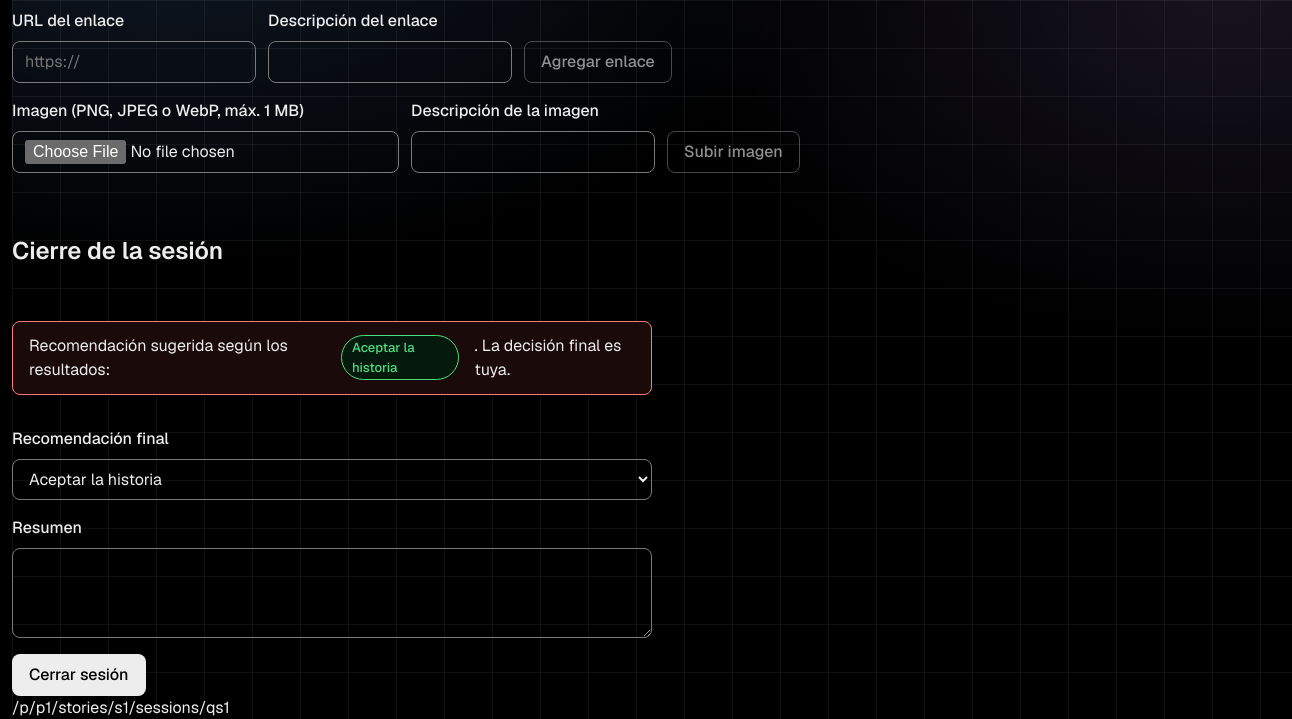
Test: SessionDetailPage › si el servidor rechaza el cierre muestra el motivo junto al formulario
This screenshot has width=1292, height=719.
(page scrolled)
Click the button "Cerrar sesión" at {"x": 79, "y": 675}, box x1=12 y1=654 x2=146 y2=696
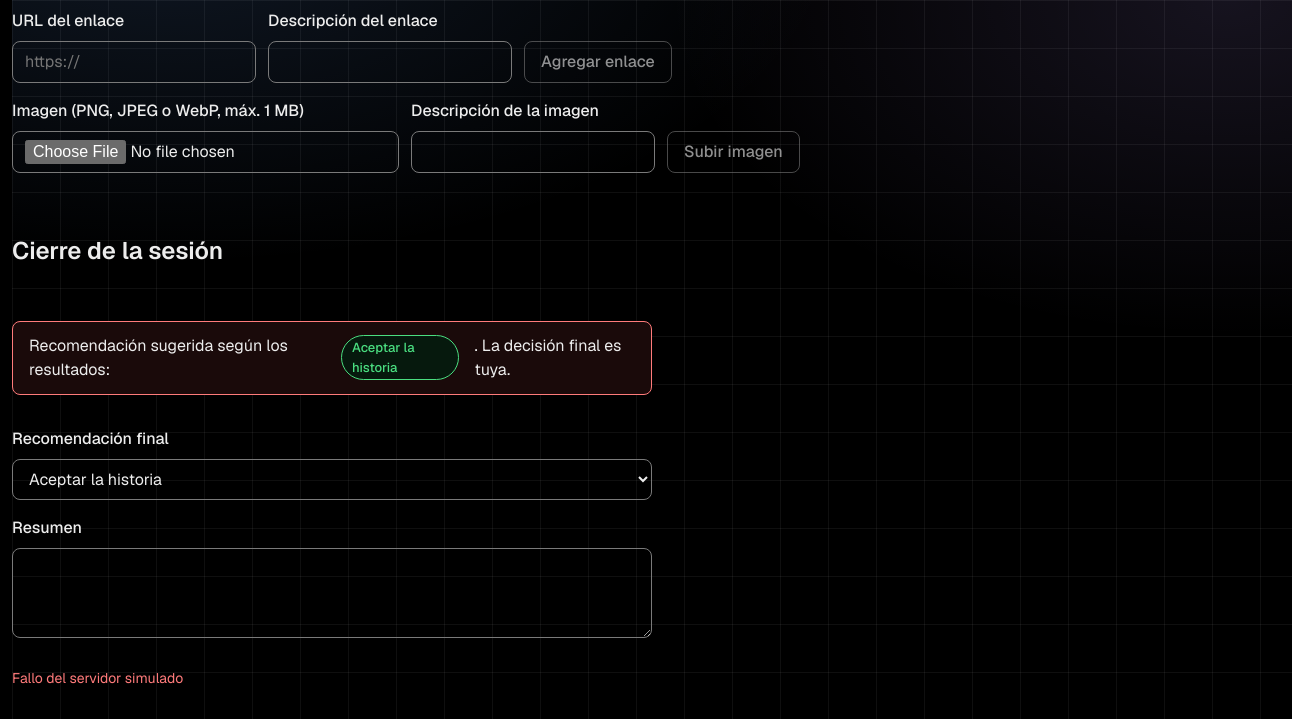
Expected: the message reads "Fallo del servidor simulado", x1=12 y1=669 x2=183 y2=687
